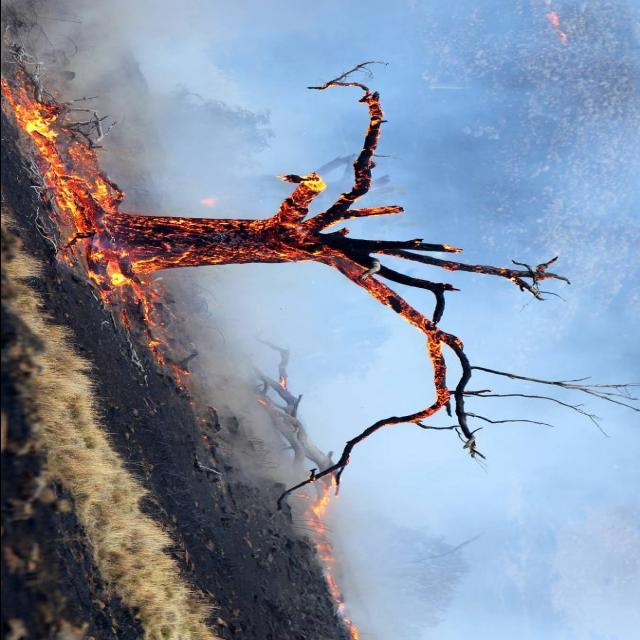Fire: (22, 76, 470, 418), (300, 473, 363, 640)
